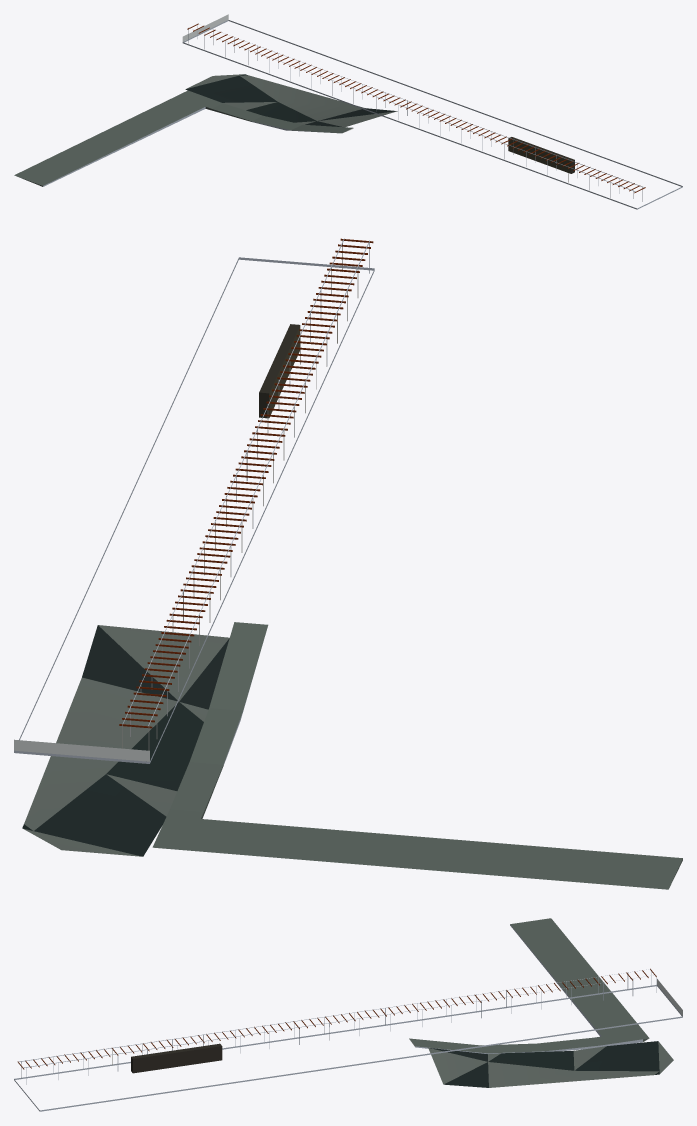
File: chattanooga-pier.glb
The picture shows the model from 3 angles, top to bottom: view 1: azimuth 30°, elevation 25°; view 2: azimuth 150°, elevation 25°; view 3: azimuth 270°, elevation 25°; orthographic projection. The views are drawn at different scales.
Visible parts, largest first — view 1: LOD0; view 2: LOD0; view 3: LOD0.
Part boxes in pixels (box(x1,y1,x2,y2)): LOD0: box(14, 14, 682, 209); LOD0: box(14, 238, 682, 889); LOD0: box(14, 918, 682, 1111).
Size of what is drawn, in the model's own units: 89.18 by 12.38 by 103.
Materials: 3 (3 with a texture image).
